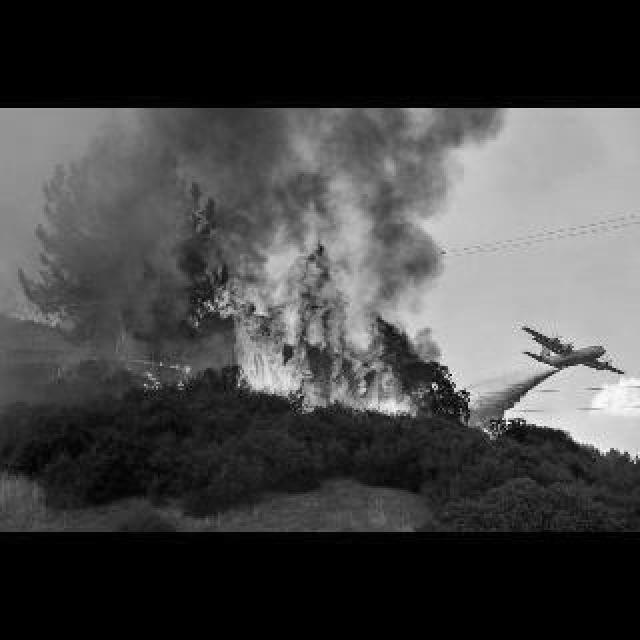Fire: (218, 292, 424, 418), (112, 344, 188, 394), (8, 302, 74, 328)
Smoke: (159, 110, 498, 306)
